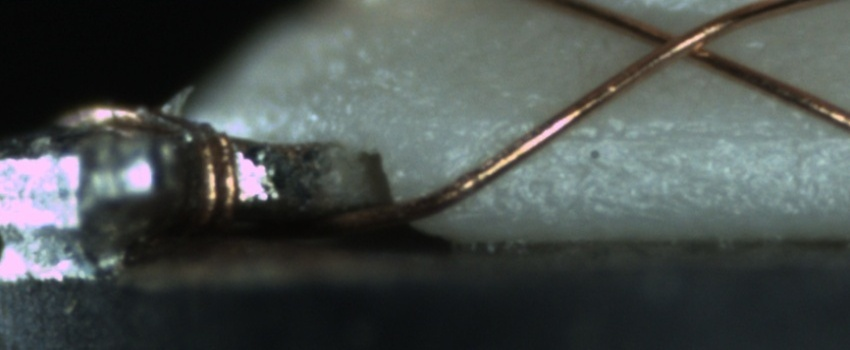CL: (633, 13, 730, 71)
DL: (543, 101, 849, 165)
TE: (81, 105, 238, 229)
